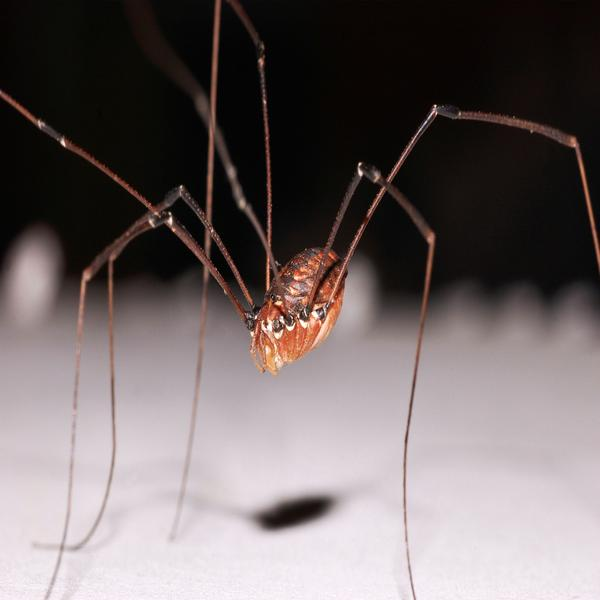Daddy Long Legs Spider: (12, 12, 595, 586)
